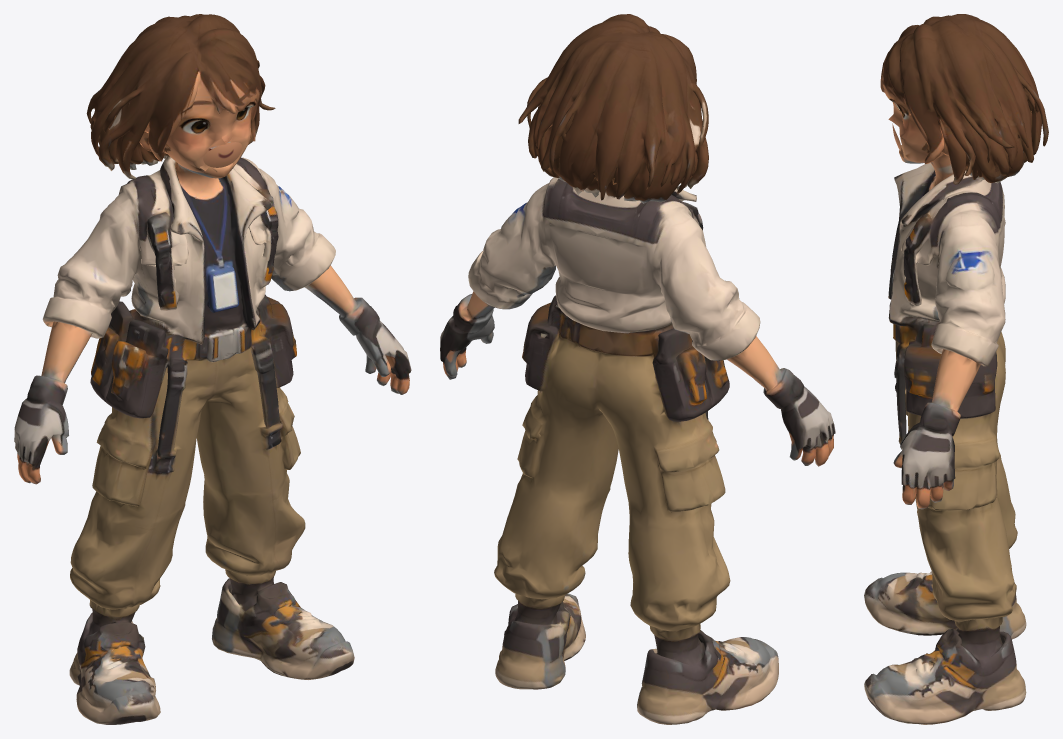
The model's file is sora.glb.
3 renders of one model, left to right at view 1: azimuth 30°, elevation 25°; view 2: azimuth 150°, elevation 25°; view 3: azimuth 270°, elevation 25°, orthographic. The views are drawn at different scales.
Parts seen in each view (by area): view 1: tripo_node_eab66c1e-66bd-43b5-b95d-bab27fa7b91d; view 2: tripo_node_eab66c1e-66bd-43b5-b95d-bab27fa7b91d; view 3: tripo_node_eab66c1e-66bd-43b5-b95d-bab27fa7b91d.
Part boxes in pixels (x1,y1,x2,y2): tripo_node_eab66c1e-66bd-43b5-b95d-bab27fa7b91d: (14, 14, 411, 724); tripo_node_eab66c1e-66bd-43b5-b95d-bab27fa7b91d: (440, 14, 835, 724); tripo_node_eab66c1e-66bd-43b5-b95d-bab27fa7b91d: (864, 14, 1048, 724).
Size of the model in its own units: 0.6087 by 1 by 0.2592.
1 material, 1 textured.
